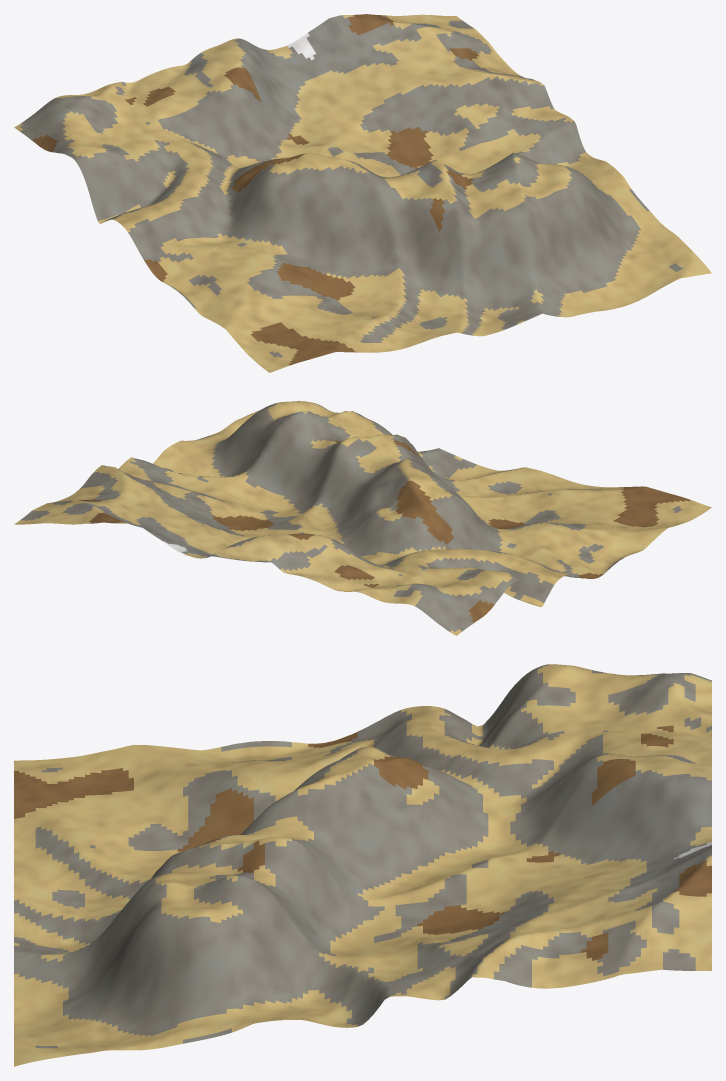
File: chunk_6_4.glb
3 views of the same model, one above another, from view 1: azimuth 30°, elevation 25°; view 2: azimuth 150°, elevation 25°; view 3: azimuth 270°, elevation 25° (orthographic). The views are drawn at different scales.
Parts seen in each view (by area): view 1: Surface_Gravel, Surface_Sand, Surface_Dirt; view 2: Surface_Sand, Surface_Gravel, Surface_Dirt; view 3: Surface_Gravel, Surface_Sand, Surface_Dirt.
Part boxes in pixels (x1,y1,x2,y2): Surface_Gravel: [19, 15, 682, 357]; Surface_Sand: [14, 14, 711, 372]; Surface_Dirt: [32, 14, 478, 365]; Surface_Sand: [14, 401, 711, 635]; Surface_Gravel: [20, 401, 682, 631]; Surface_Dirt: [78, 440, 690, 622]; Surface_Gravel: [14, 664, 711, 1048]; Surface_Sand: [14, 664, 711, 1066]; Surface_Dirt: [14, 725, 711, 960].
Bounding box in the file's own units: 256 × 63.54 × 256.
